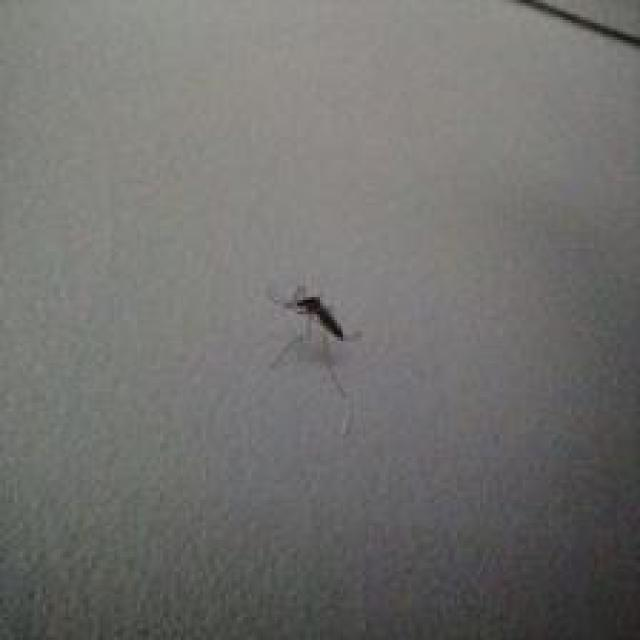Culex: (287, 288, 344, 343)
